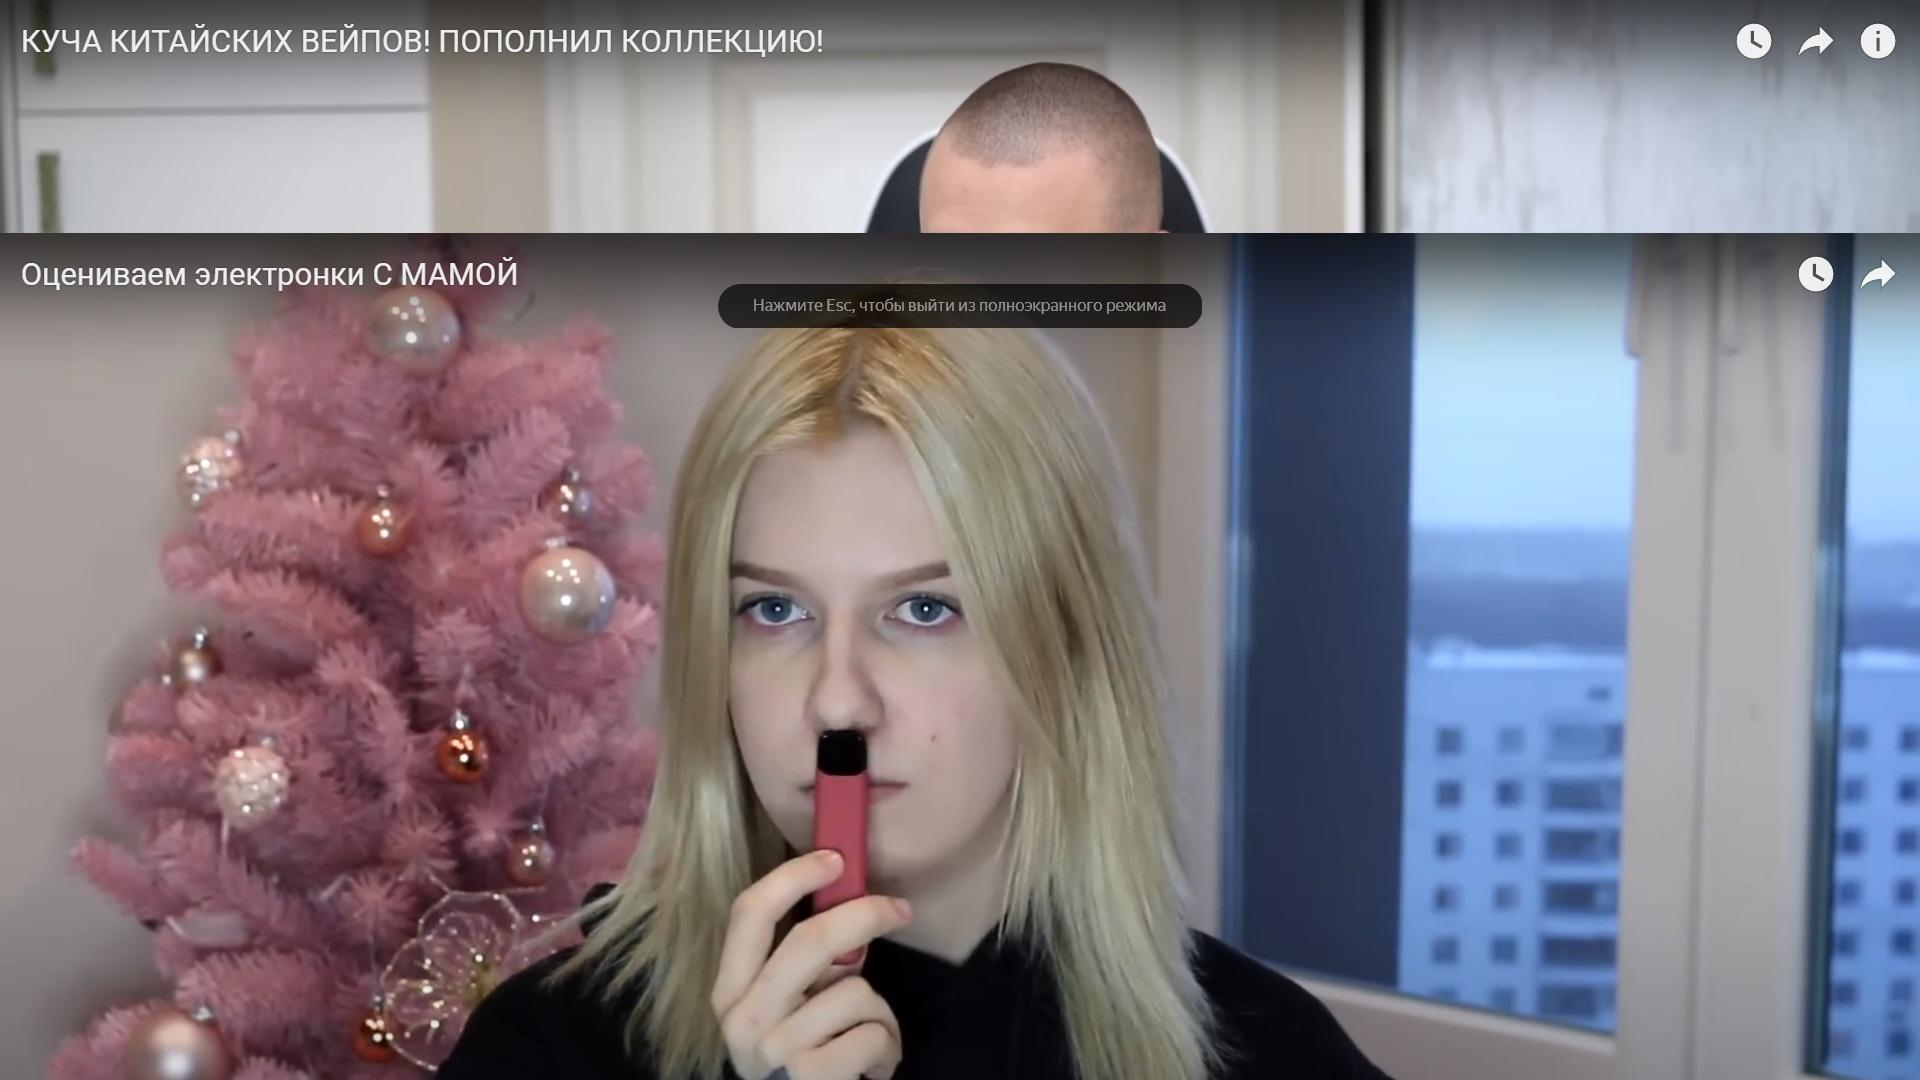Vape: (811, 731, 869, 911)
